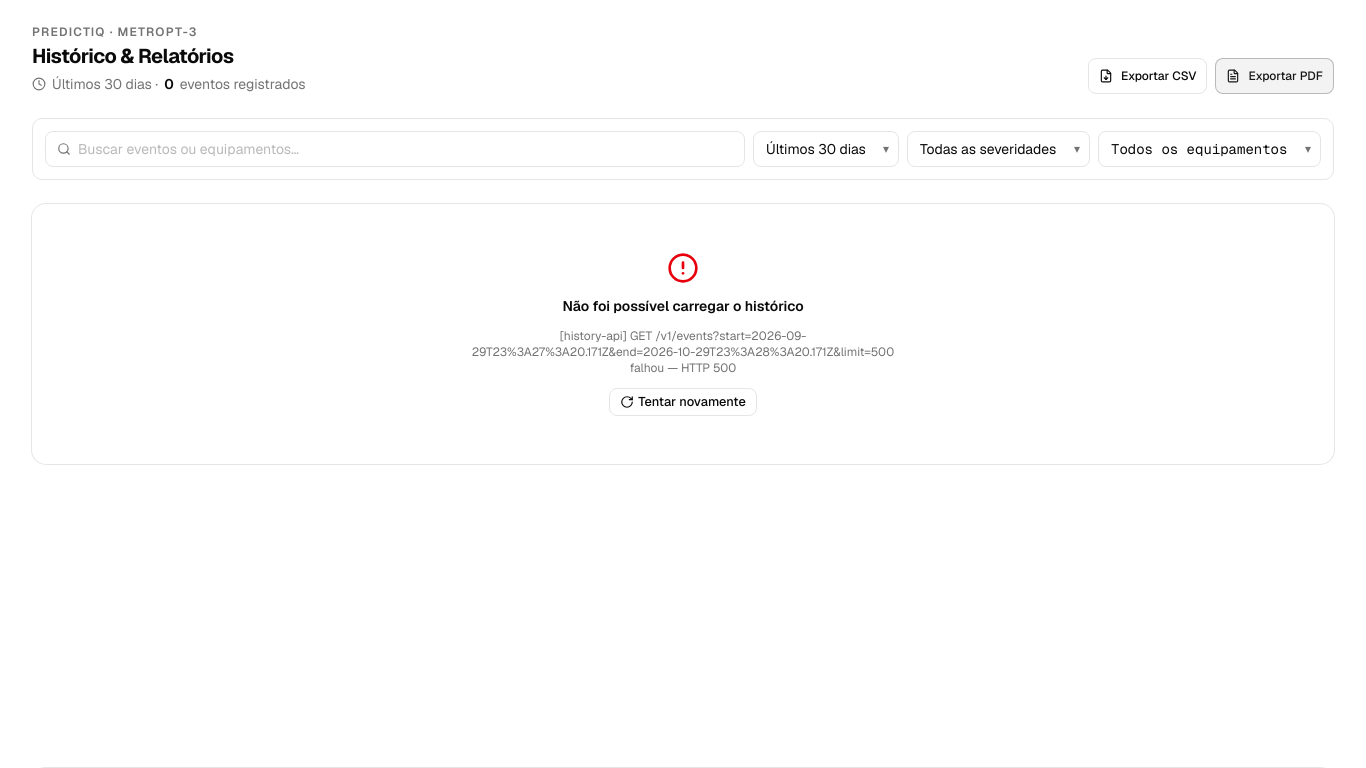
HistoryDashboard (API real) › estado de erro com botão de tentar novamente
Expected: the text "Não foi possível carregar o histórico" is shown, left=562, top=296, right=804, bottom=316
Click the button "Tentar novamente": x=683, y=402 left=609, top=388, right=757, bottom=416
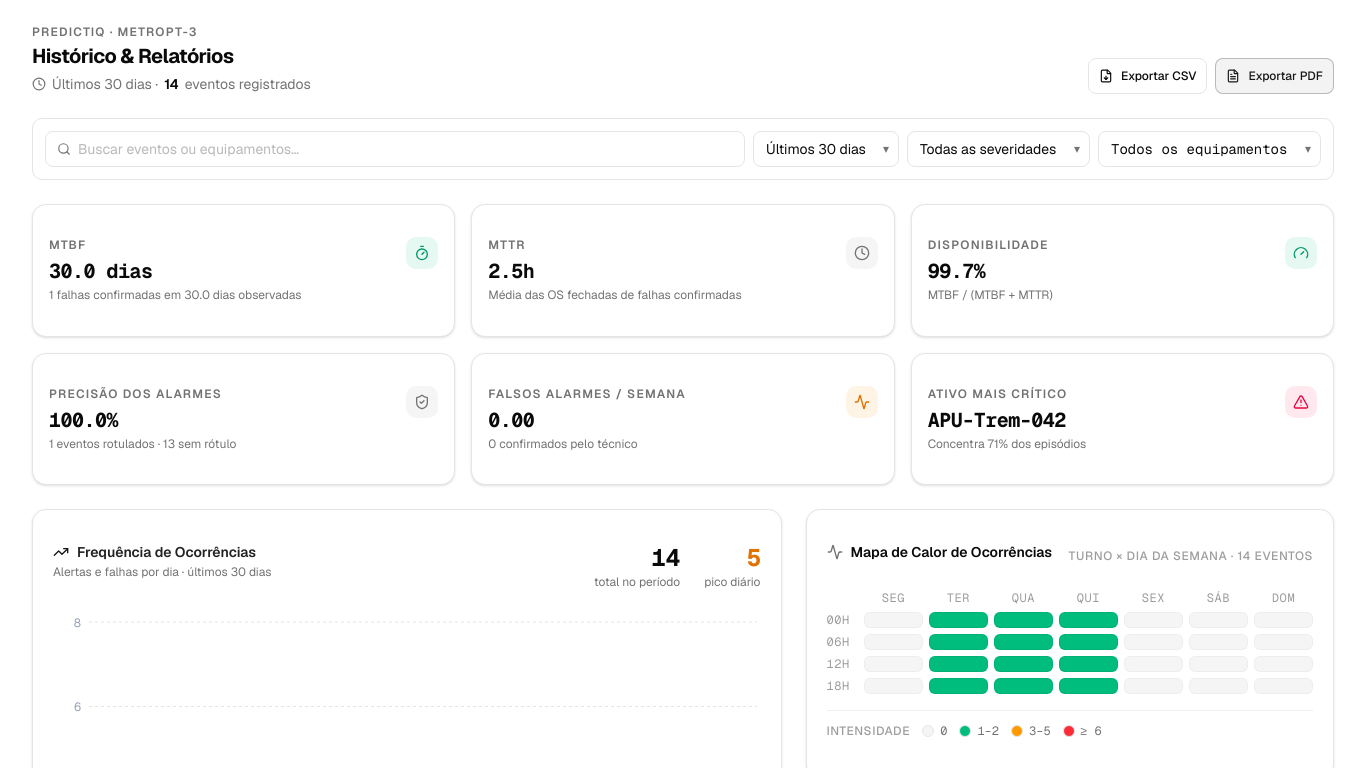
Result: the text "Histórico & Relatórios" shows "14 eventos registrados" at left=32, top=24, right=311, bottom=94
